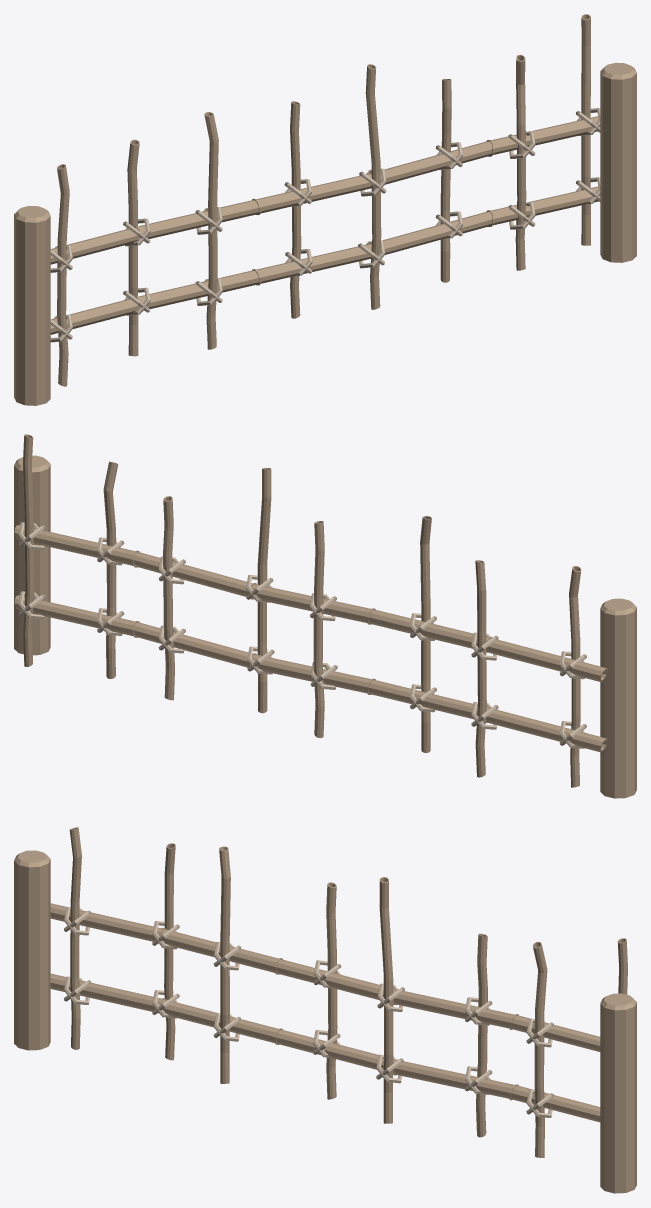
Rendered from ER_Asset_BambooFence.fbx.
The picture shows the model from 3 angles, top to bottom: view 1: azimuth 30°, elevation 25°; view 2: azimuth 150°, elevation 25°; view 3: azimuth 330°, elevation 25°; orthographic projection.
Parts seen in each view (by area): view 1: polySurface1659; view 2: polySurface1659; view 3: polySurface1659.
Part boxes in pixels (<box>): polySurface1659: <box>14,14,636,405</box>; polySurface1659: <box>14,434,636,798</box>; polySurface1659: <box>14,827,636,1193</box>.
Size of the model in its own units: 5.15 by 1.95 by 0.4501.
